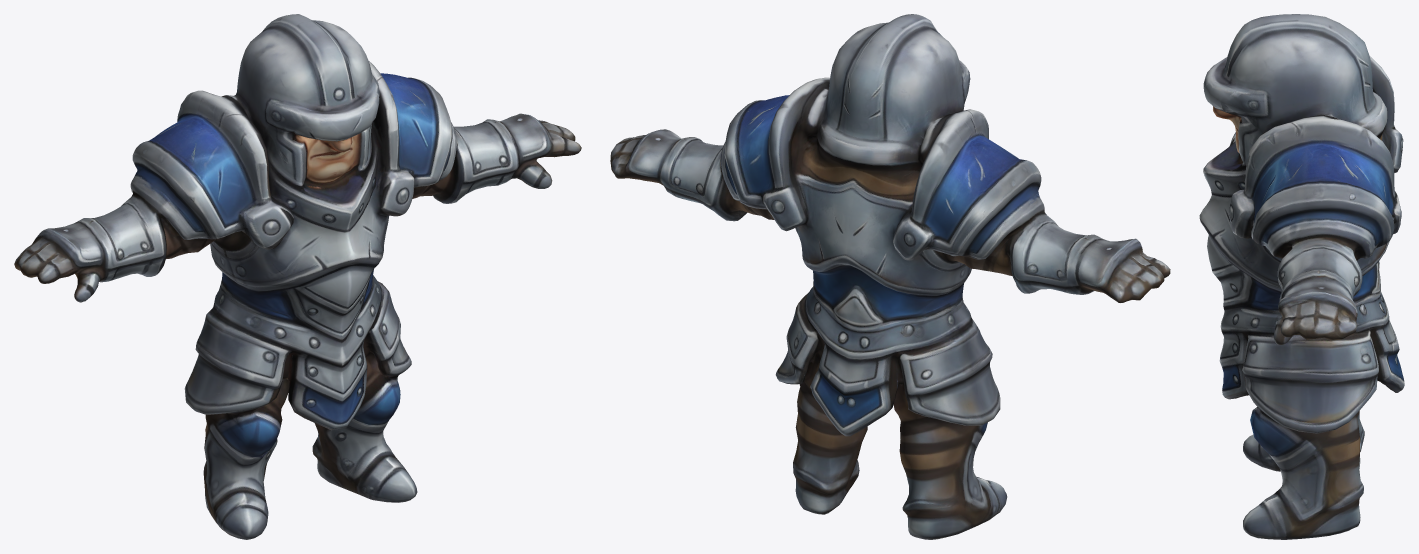
The model's file is T_Pose.fbx.
3 renders of one model, left to right at view 1: azimuth 30°, elevation 25°; view 2: azimuth 150°, elevation 25°; view 3: azimuth 270°, elevation 25°, orthographic.
Visible parts, largest first — view 1: Mesh_0; view 2: Mesh_0; view 3: Mesh_0.
Part boxes in pixels (<box>): Mesh_0: <box>14,14,581,539</box>; Mesh_0: <box>610,14,1170,539</box>; Mesh_0: <box>1199,14,1404,539</box>.
Size of the model in its own units: 200 by 169 by 64.71.
Materials: 1 (1 with a texture image).
